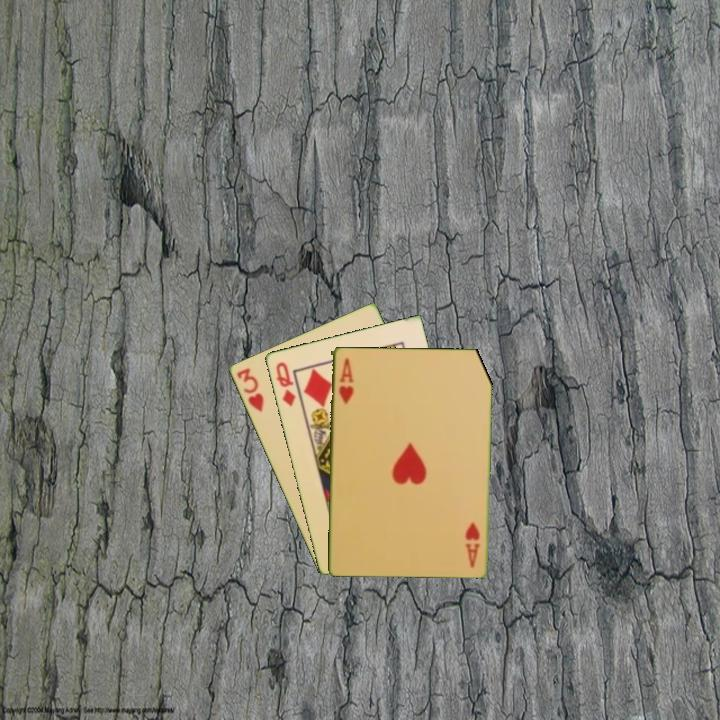3h: (233, 364, 266, 415)
Ah: (335, 354, 356, 407), (463, 518, 482, 570)
Qd: (272, 358, 298, 409)
